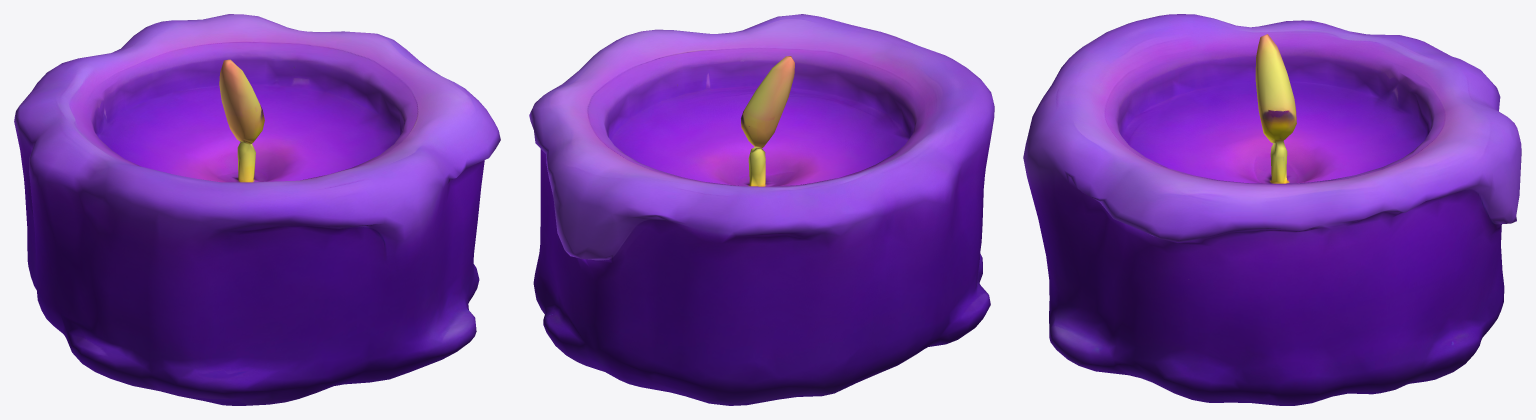
Rendered from purple+candle+3d+model.obj.
The picture shows the model from 3 angles, left to right: view 1: azimuth 30°, elevation 25°; view 2: azimuth 150°, elevation 25°; view 3: azimuth 270°, elevation 25°; orthographic projection. The views are drawn at different scales.
Parts seen in each view (by area): view 1: tripo_node_756b0c6d-6e94-442c-a451-43dd49bb3ac5; view 2: tripo_node_756b0c6d-6e94-442c-a451-43dd49bb3ac5; view 3: tripo_node_756b0c6d-6e94-442c-a451-43dd49bb3ac5.
Boxes of the visible parts, left/top/right/bottom form: tripo_node_756b0c6d-6e94-442c-a451-43dd49bb3ac5: left=14, top=14, right=500, bottom=405; tripo_node_756b0c6d-6e94-442c-a451-43dd49bb3ac5: left=529, top=14, right=994, bottom=405; tripo_node_756b0c6d-6e94-442c-a451-43dd49bb3ac5: left=1023, top=14, right=1521, bottom=405.
Size of the model in its own units: 0.9507 by 0.6434 by 1.
1 material, 1 textured.
